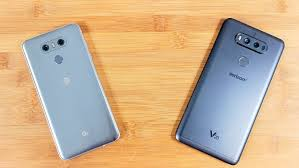lg: (167, 15, 284, 166), (20, 20, 121, 162)
